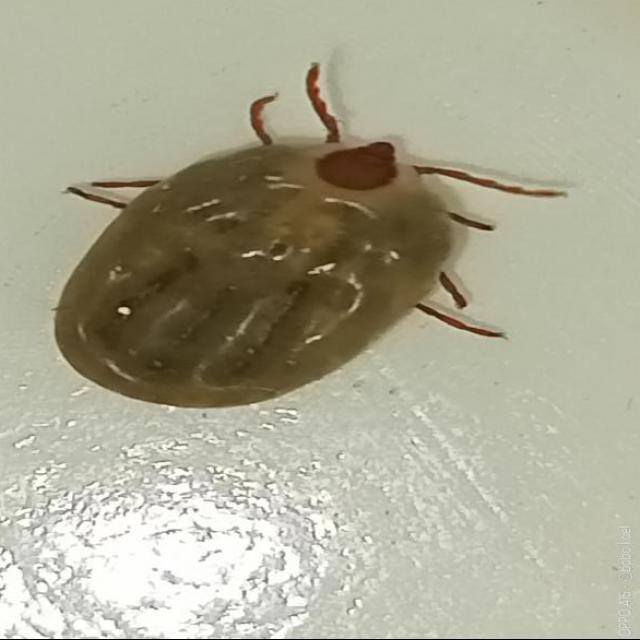Rhipicephalus Sanguineus-F-Fed: (54, 62, 573, 411)
